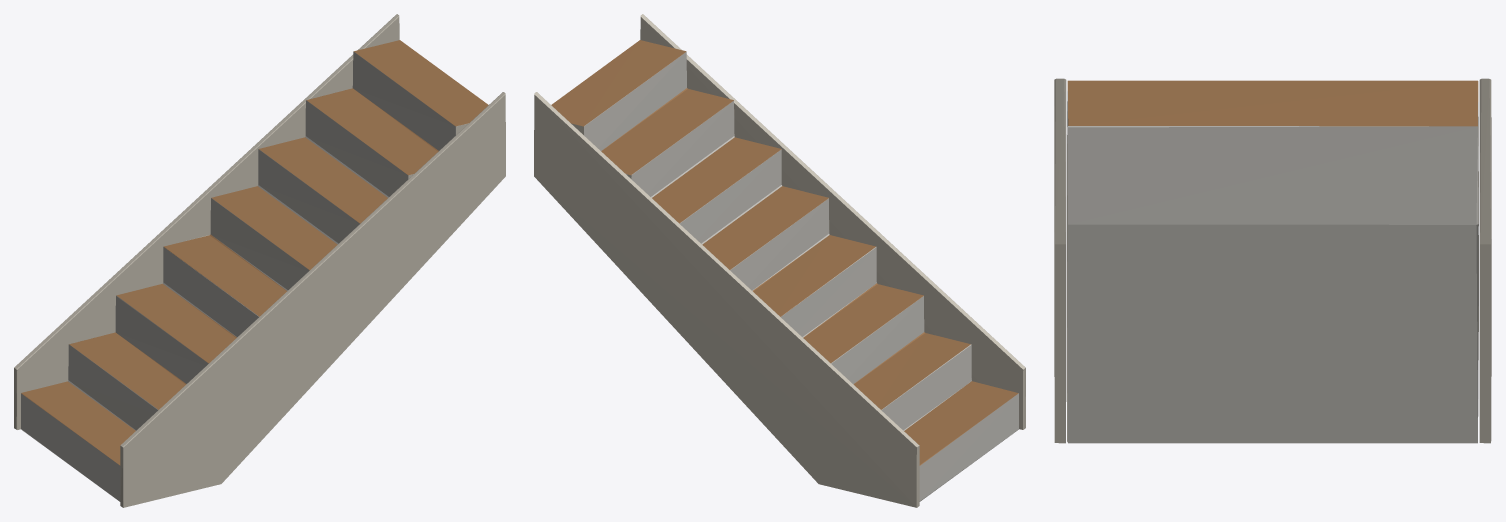
The model's file is SM_Kit_Stair_HalfFlight_LOD2.glb.
3 views of the same model, side by side, from view 1: azimuth 30°, elevation 25°; view 2: azimuth 150°, elevation 25°; view 3: azimuth 270°, elevation 25° (orthographic). The views are drawn at different scales.
Parts seen in each view (by area): view 1: SM_Kit_Stair_HalfFlight_LOD2; view 2: SM_Kit_Stair_HalfFlight_LOD2; view 3: SM_Kit_Stair_HalfFlight_LOD2.
Part boxes in pixels (box(x1,y1,x2,y2)): SM_Kit_Stair_HalfFlight_LOD2: box(14, 14, 505, 507); SM_Kit_Stair_HalfFlight_LOD2: box(534, 14, 1025, 507); SM_Kit_Stair_HalfFlight_LOD2: box(1054, 78, 1491, 443).
Bounding box in the file's own units: 2.02 × 1.62 × 0.9976.
